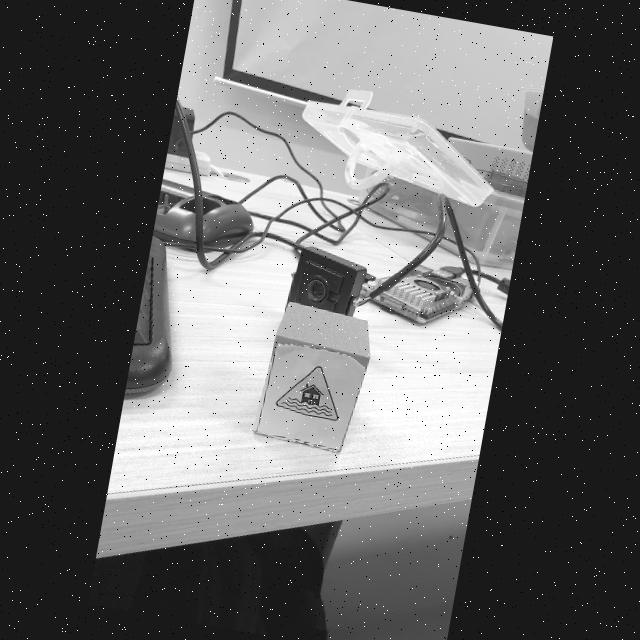Tsunami: (276, 366, 338, 420)
